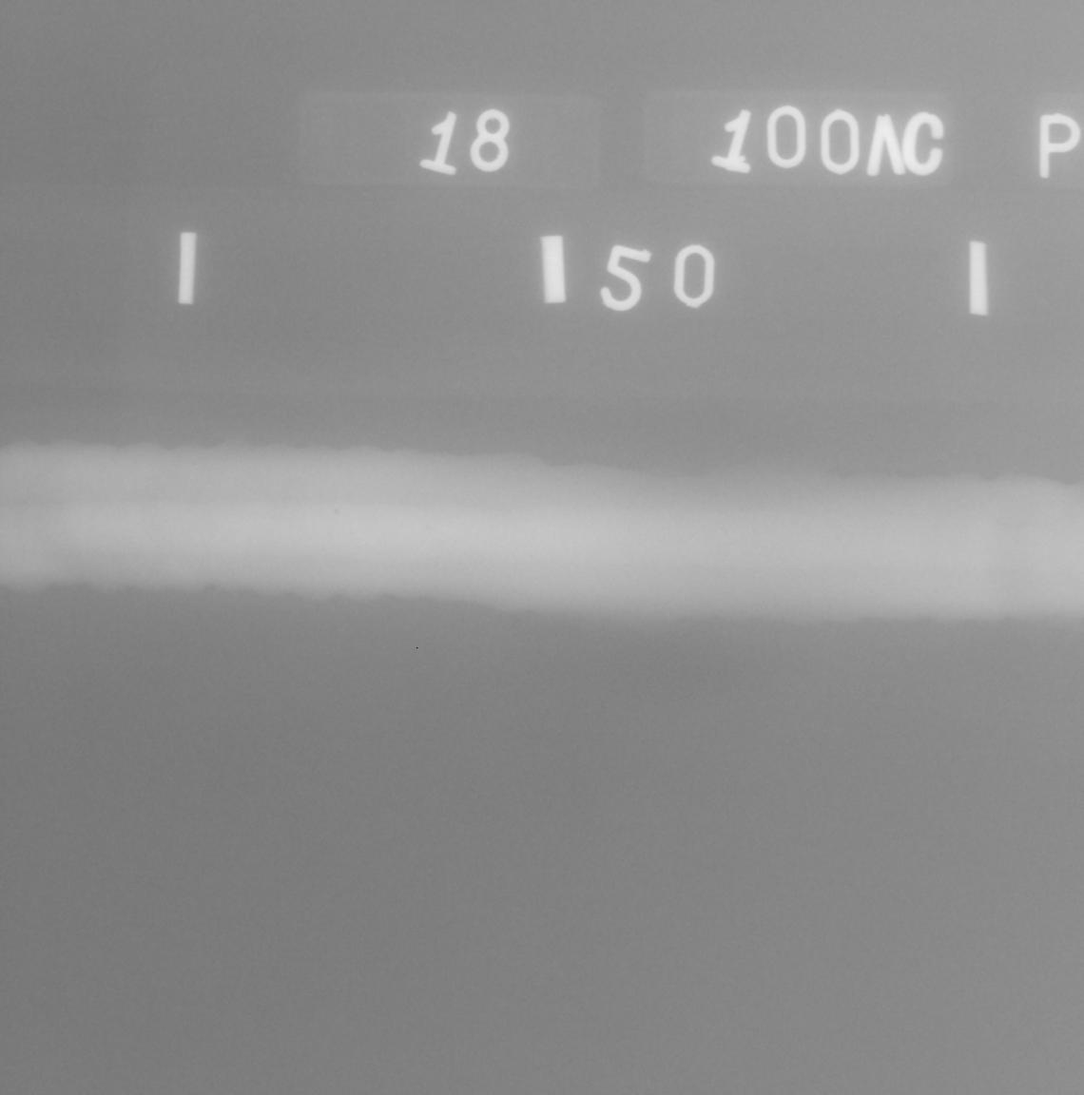Pore/Porosity: (334, 509, 339, 514), (425, 525, 430, 530)
